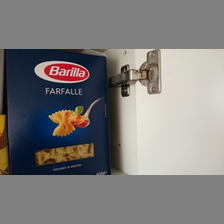pasta: (3, 50, 110, 174)
